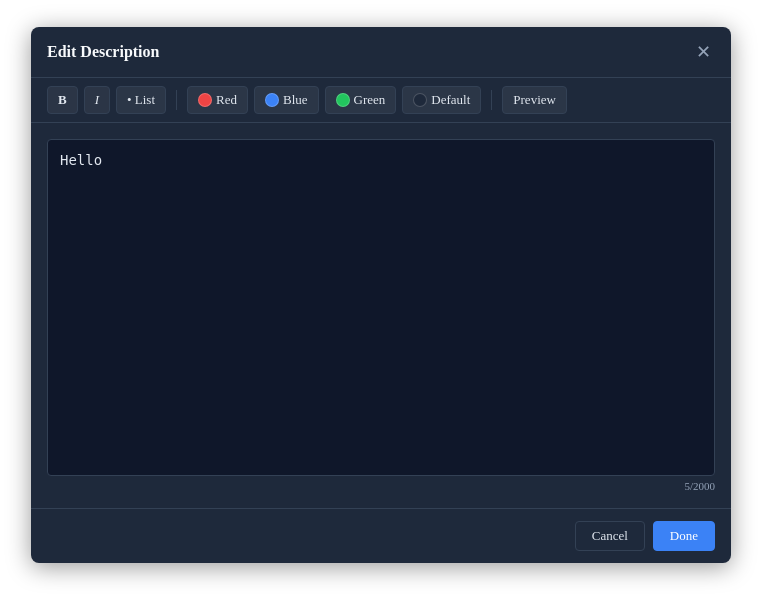
Test: DescriptionModal › toolbar bold button › inserts empty bold markers at cursor when no selection
Click the button with test id "toolbar-bold" at (62, 100), box [47,86,78,114]
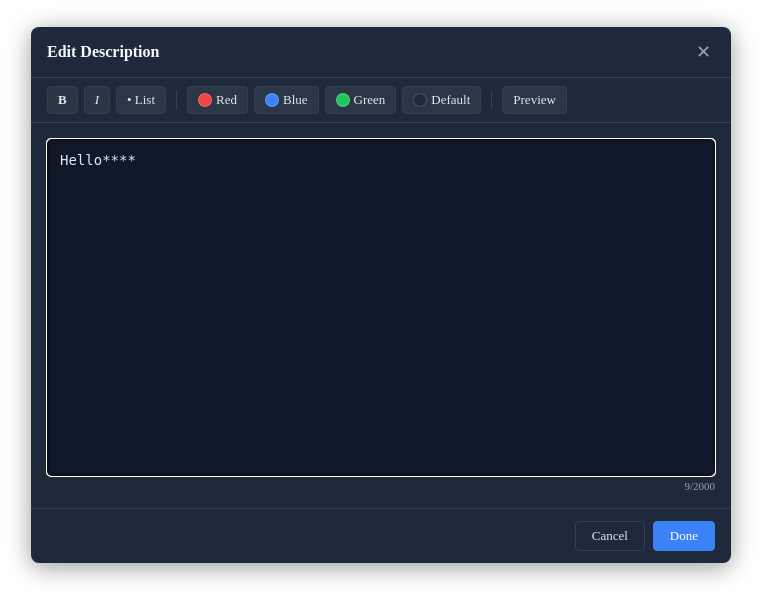
Result: the text box with test id "description-modal-textarea" holds "Hello****" at [47,139,715,476]
